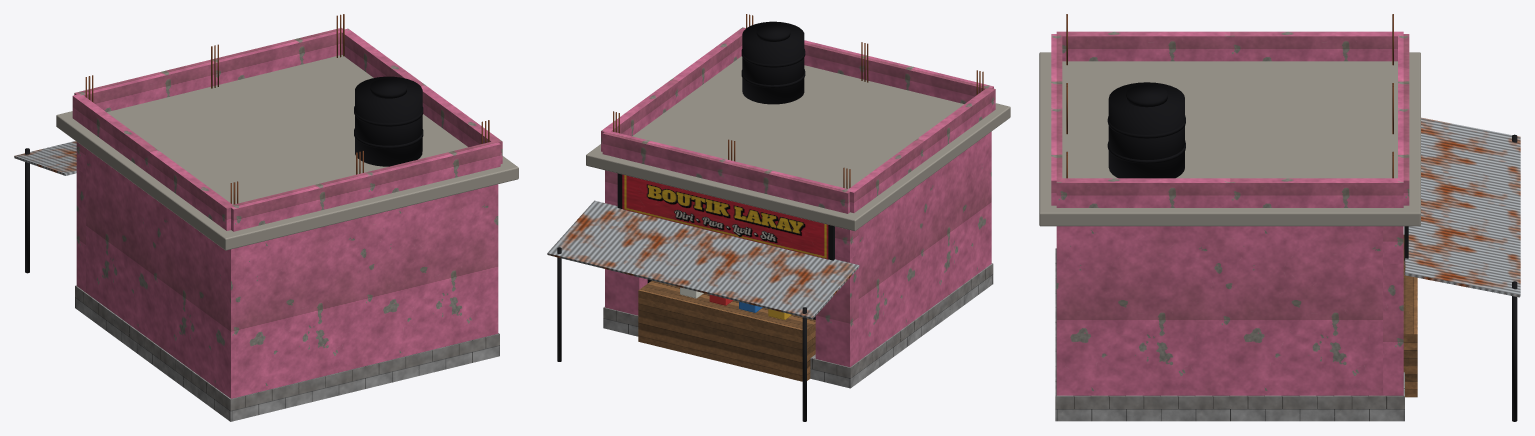
File: Boutik.fbx
3 views of the same model, side by side, from view 1: azimuth 30°, elevation 25°; view 2: azimuth 150°, elevation 25°; view 3: azimuth 270°, elevation 25° (orthographic). The views are drawn at different scales.
Visible parts, largest first — view 1: Boutik; view 2: Boutik; view 3: Boutik.
Part boxes in pixels (x1,y1,x2,y2): Boutik: (14, 14, 518, 421); Boutik: (547, 14, 1010, 421); Boutik: (1039, 14, 1520, 421).
Bounding box in the file's own units: 5.5 × 4.6 × 6.94.
